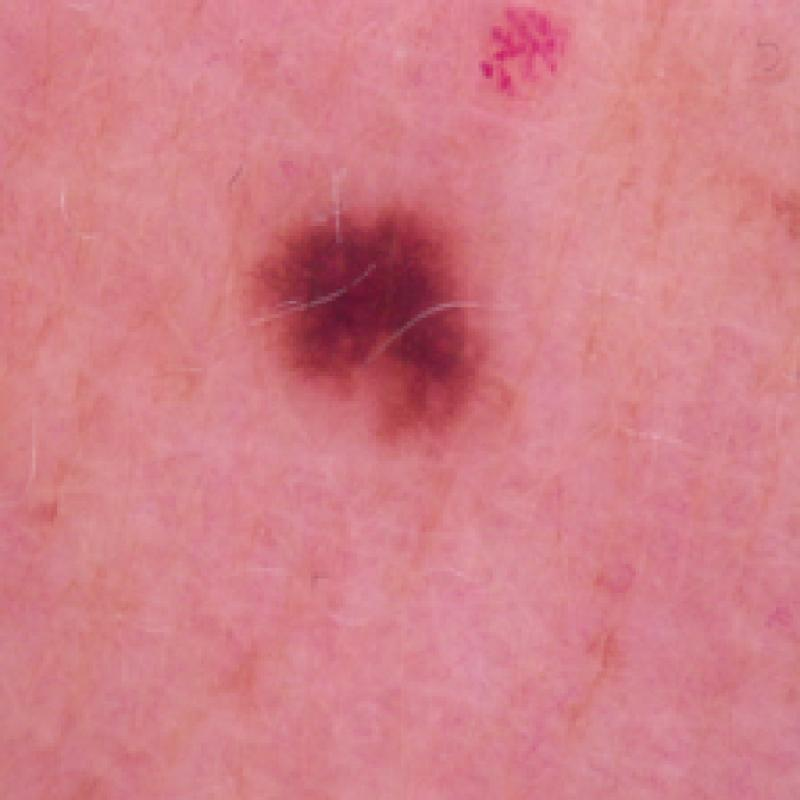benign: (221, 192, 521, 465), (465, 2, 599, 119)
